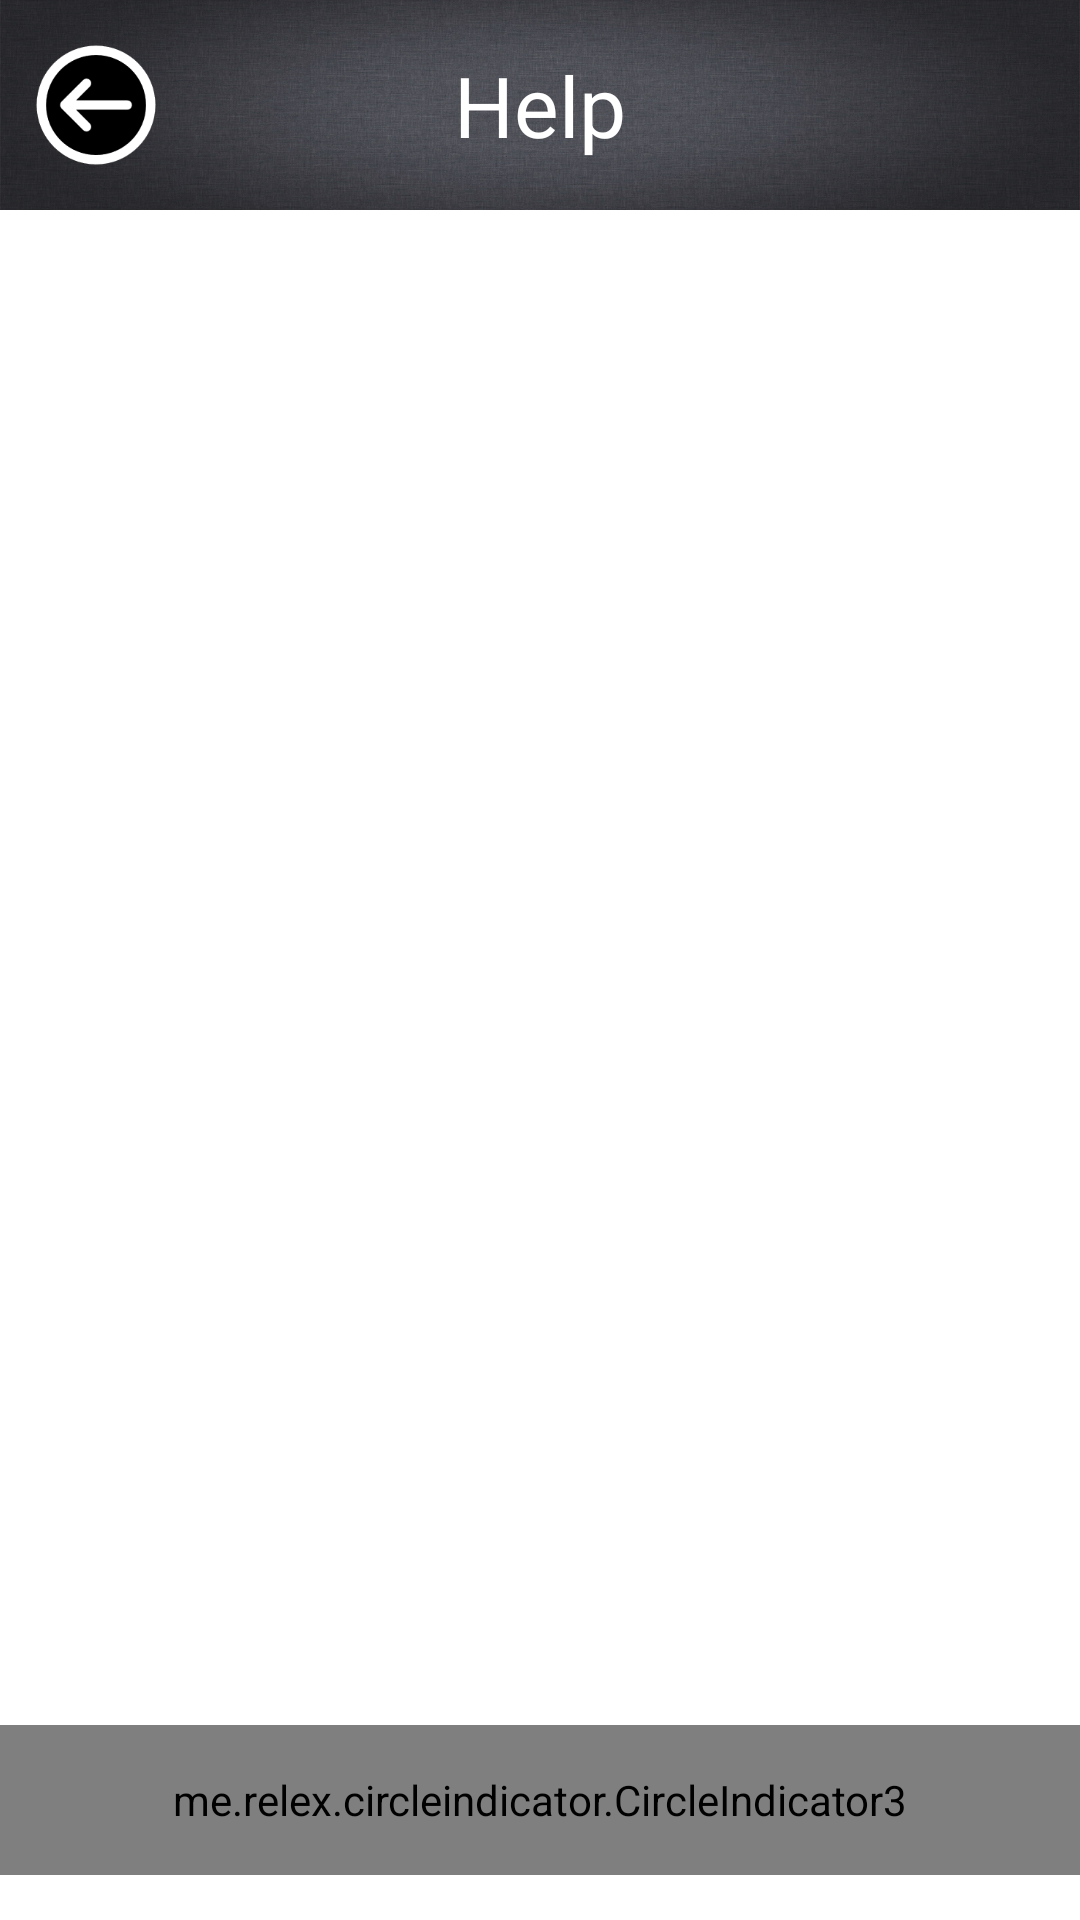

Screen size 1080 × 1920. Icon name, then its box in pixels as (x1, y1, x2, y2):
backbutton: (36, 45, 167, 165)
